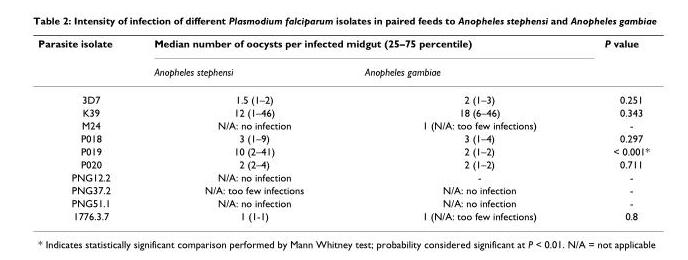table: (37, 36, 648, 221)
table column: (333, 36, 569, 221), (132, 36, 333, 221), (37, 36, 132, 221), (569, 36, 648, 221)
table column header: (37, 36, 648, 85)
table row: (37, 57, 648, 85), (37, 36, 648, 57), (37, 85, 648, 105), (37, 105, 648, 118), (37, 118, 648, 131), (37, 131, 648, 144), (37, 144, 648, 157), (37, 157, 648, 170), (37, 170, 648, 183), (37, 183, 648, 196), (37, 196, 648, 209), (37, 209, 648, 221)
table spanning cell: (132, 36, 569, 57), (37, 36, 132, 85), (569, 36, 648, 85)
